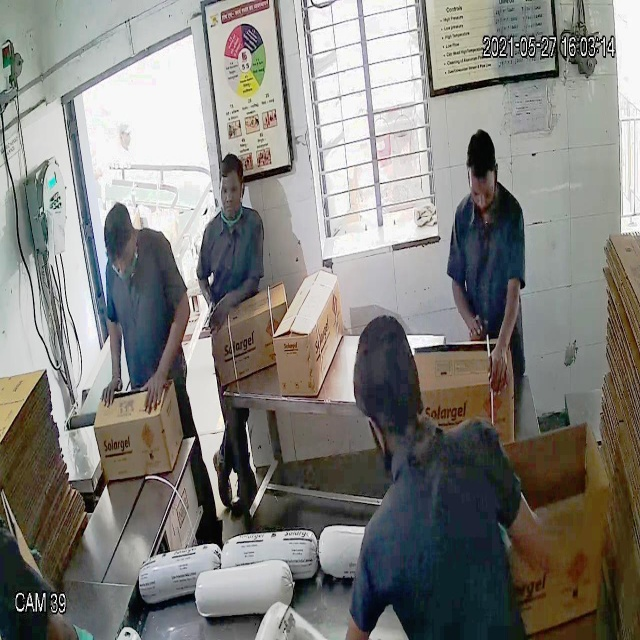Sin_gafas: (466, 175, 497, 208), (216, 176, 247, 209)
